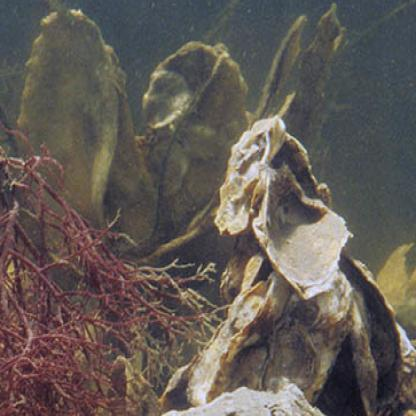Oyster- Indeterminate: (16, 12, 160, 250), (254, 11, 345, 151)
Oyster-Closed: (137, 46, 251, 239), (377, 238, 416, 333)
Oyster-Open: (341, 255, 406, 416)
